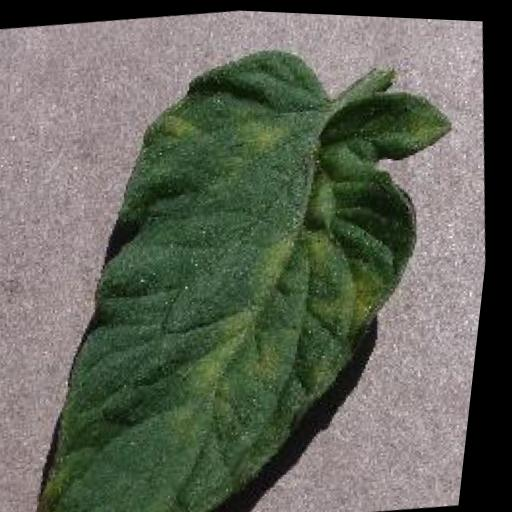Leaf Mold: (0, 17, 506, 512)
